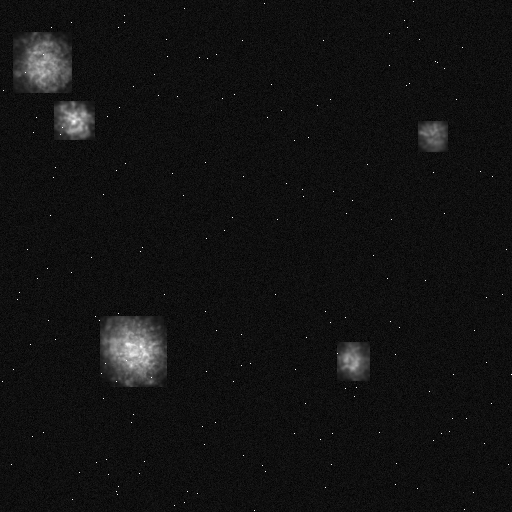lam1: (54, 101, 94, 139), (337, 342, 369, 380), (418, 121, 447, 151)
lam3: (100, 316, 163, 381), (110, 319, 166, 386), (13, 32, 71, 92)
